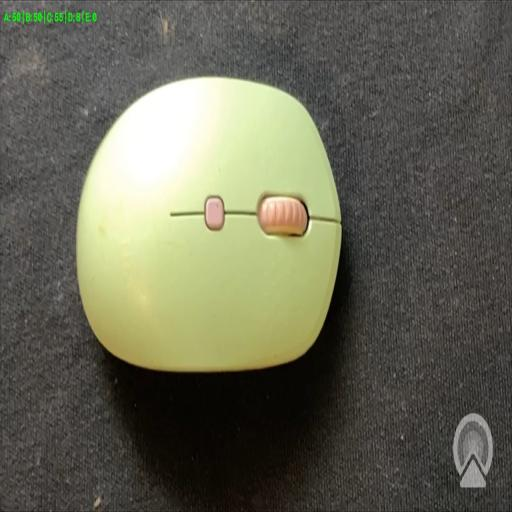mouse: (44, 65, 358, 375)
